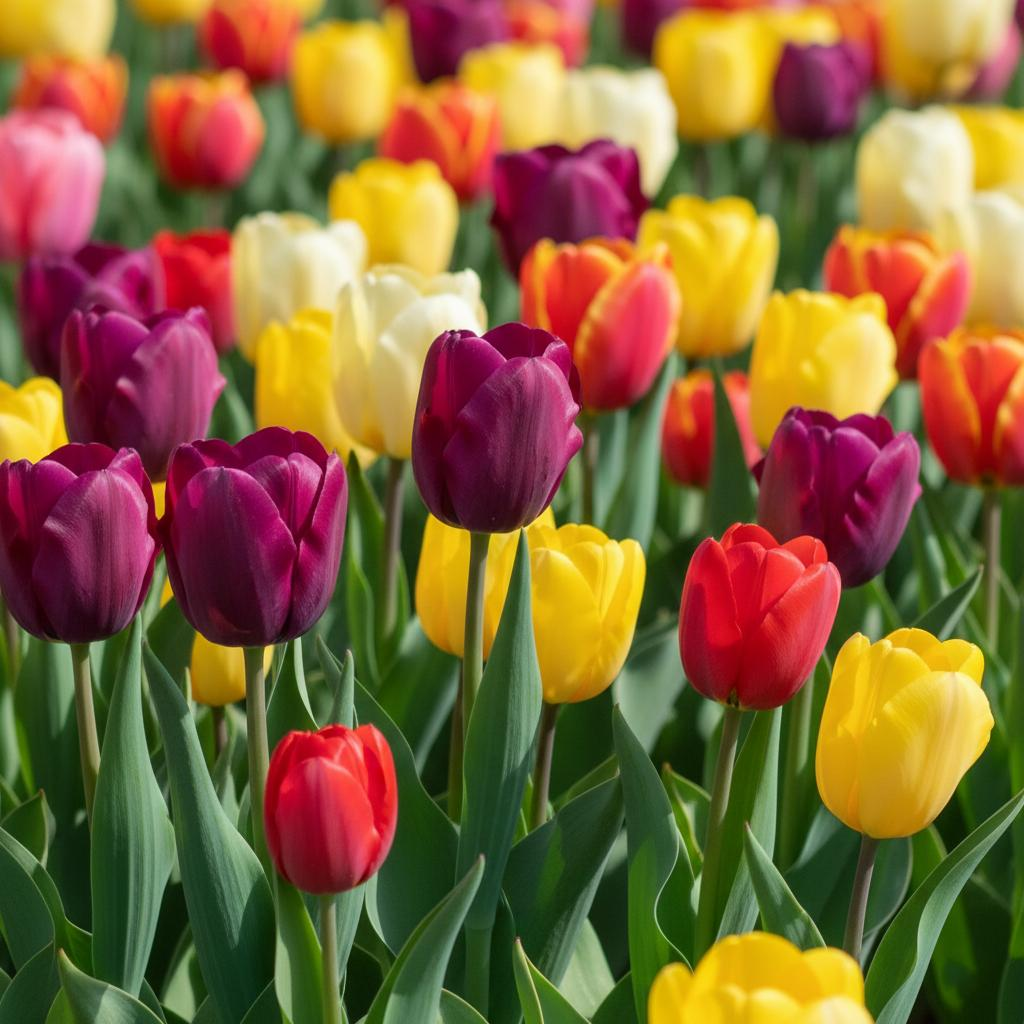tulip: (1, 0, 1024, 915)
